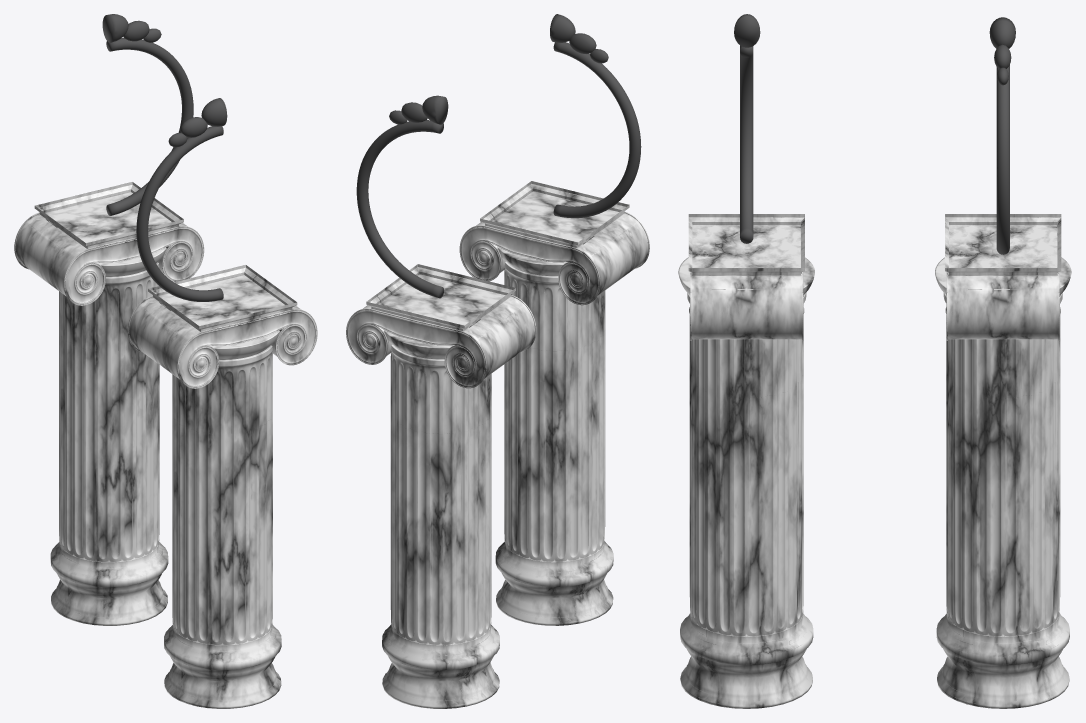
The model's file is PILLAR LEFT NEW.fbx.
3 renders of one model, left to right at view 1: azimuth 30°, elevation 25°; view 2: azimuth 150°, elevation 25°; view 3: azimuth 270°, elevation 25°, orthographic. The views are drawn at different scales.
Parts seen in each view (by area): view 1: Collection|PillarRight|Dupli|2, Collection|PillarLeft|Dupli|, Collection|RingRight|Dupli|1, Collection|RingLeft|Dupli|3; view 2: Collection|PillarLeft|Dupli|, Collection|PillarRight|Dupli|2, Collection|RingLeft|Dupli|3, Collection|RingRight|Dupli|1; view 3: Collection|PillarRight|Dupli|2, Collection|PillarLeft|Dupli|, Collection|RingLeft|Dupli|3, Collection|RingRight|Dupli|1.
Part boxes in pixels (left/top/right/bottom): Collection|PillarRight|Dupli|2: left=127, top=265, right=317, bottom=708; Collection|PillarLeft|Dupli|: left=14, top=182, right=204, bottom=625; Collection|RingRight|Dupli|1: left=136, top=98, right=227, bottom=301; Collection|RingLeft|Dupli|3: left=102, top=14, right=193, bottom=215; Collection|PillarLeft|Dupli|: left=346, top=264, right=536, bottom=708; Collection|PillarRight|Dupli|2: left=459, top=181, right=649, bottom=625; Collection|RingLeft|Dupli|3: left=356, top=95, right=448, bottom=298; Collection|RingRight|Dupli|1: left=550, top=14, right=641, bottom=218; Collection|PillarRight|Dupli|2: left=678, top=214, right=814, bottom=708; Collection|PillarLeft|Dupli|: left=935, top=214, right=1071, bottom=708; Collection|RingLeft|Dupli|3: left=989, top=17, right=1015, bottom=254; Collection|RingRight|Dupli|1: left=734, top=14, right=760, bottom=243.
Size of the model in its own units: 215 by 383 by 713.
2 materials, 1 textured.
